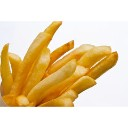frenchfries: (1, 20, 120, 107)
